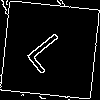L: (25, 25, 78, 75)
